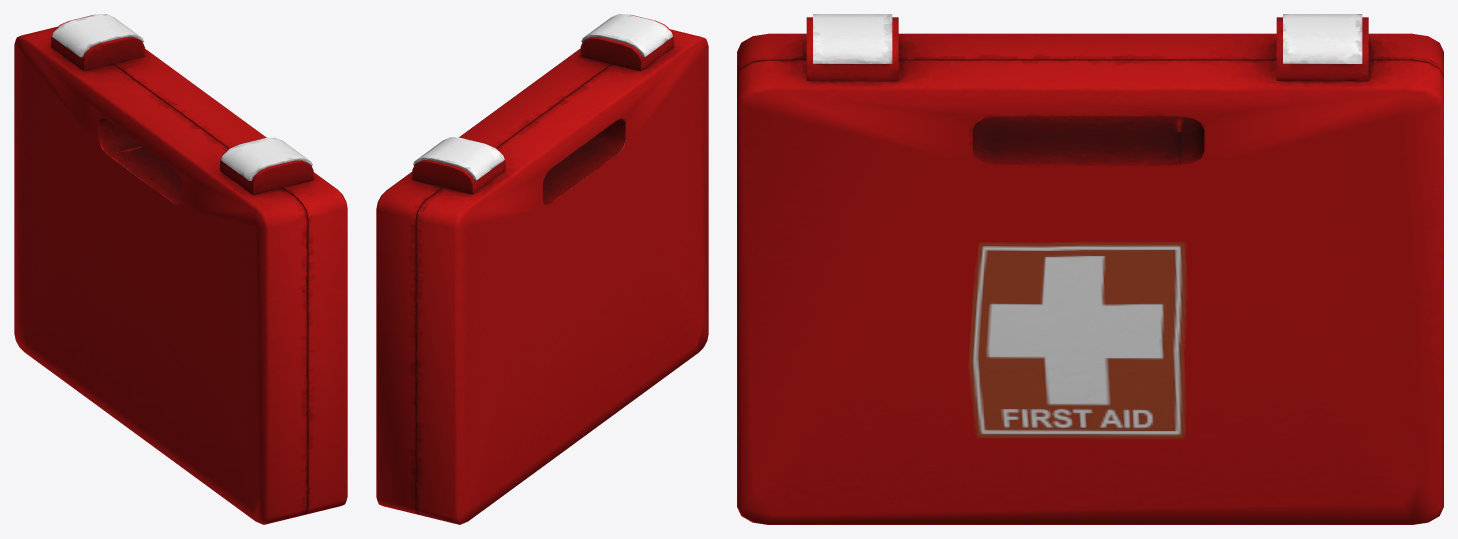
The model's file is FirstAidKit.fbx.
The picture shows the model from 3 angles, left to right: view 1: azimuth 30°, elevation 25°; view 2: azimuth 150°, elevation 25°; view 3: azimuth 270°, elevation 25°; orthographic projection. The views are drawn at different scales.
Visible parts, largest first — view 1: Cube; view 2: Cube; view 3: Cube.
Boxes of the visible parts, x1,y1,x2,y2 form: Cube: (14, 14, 347, 524); Cube: (376, 14, 708, 524); Cube: (737, 14, 1443, 524).
Size of the model in its own units: 23.05 by 90.41 by 123.
